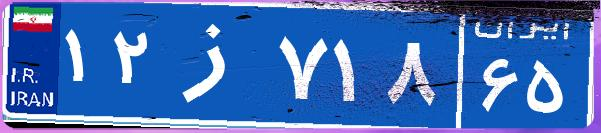1: (330, 28, 385, 110), (57, 26, 110, 107)
2: (110, 28, 158, 105)
5: (525, 38, 570, 115)
6: (475, 38, 525, 113)
7: (273, 28, 330, 110)
8: (385, 28, 445, 110)
ز: (158, 15, 273, 115)
